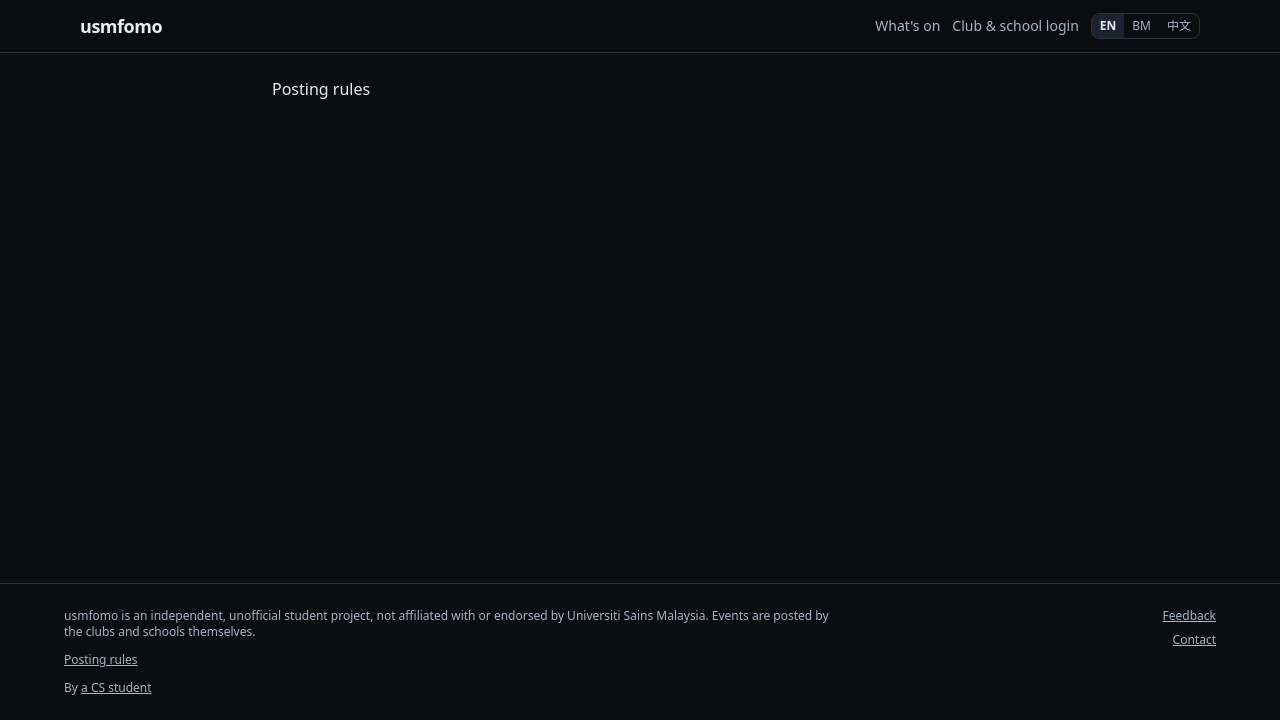
it: AppShell › names its skip link and landmarks in the chosen language
The image size is (1280, 720).
Expected: the heading "Posting rules" is shown, [272,78,370,100]
Expected: the navigation bar named "Main" is shown, [875,13,1200,39]
Click the button "BM" at (1142, 26), box [1124,14,1159,38]
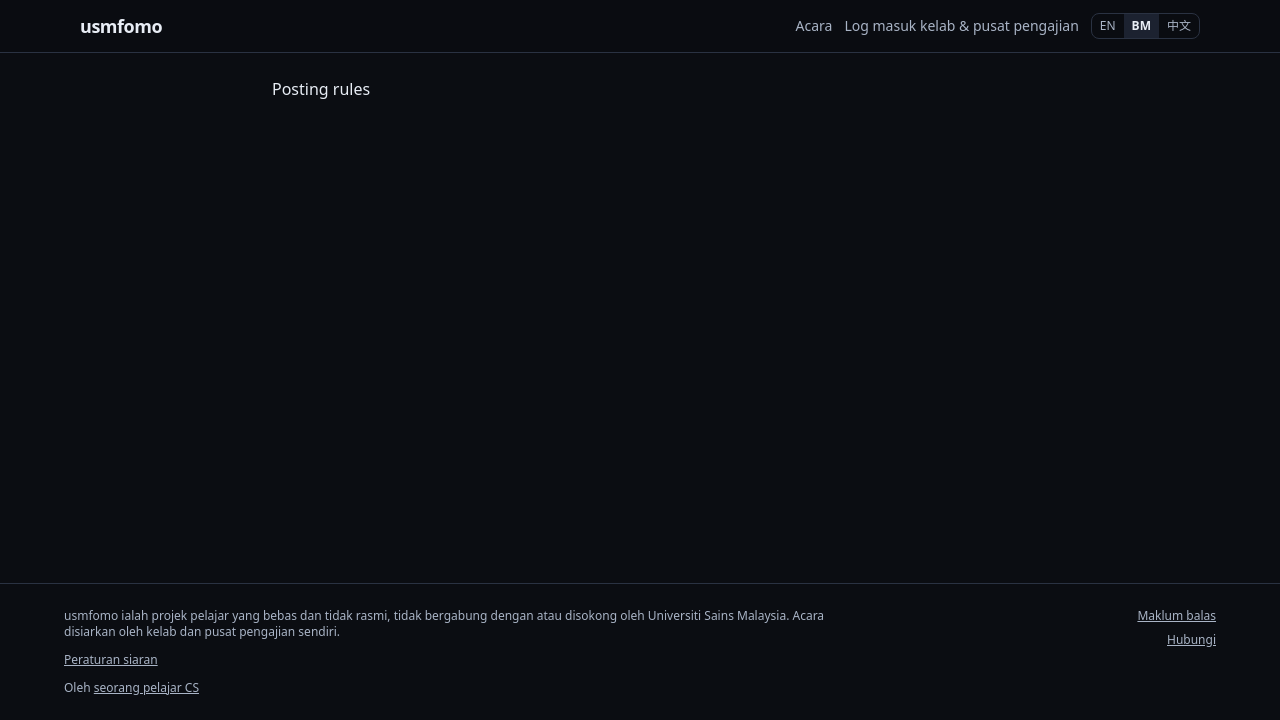
Expected: the navigation bar named "Utama" is shown, [796,13,1200,39]
Expected: the navigation bar named "Kaki halaman" is shown, [64,651,158,668]
